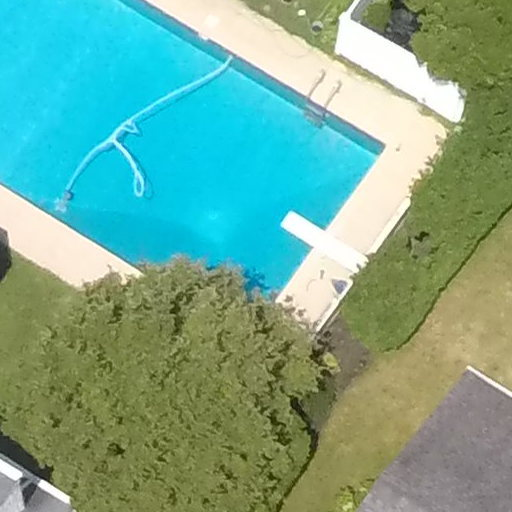pool: (1, 1, 445, 345)
